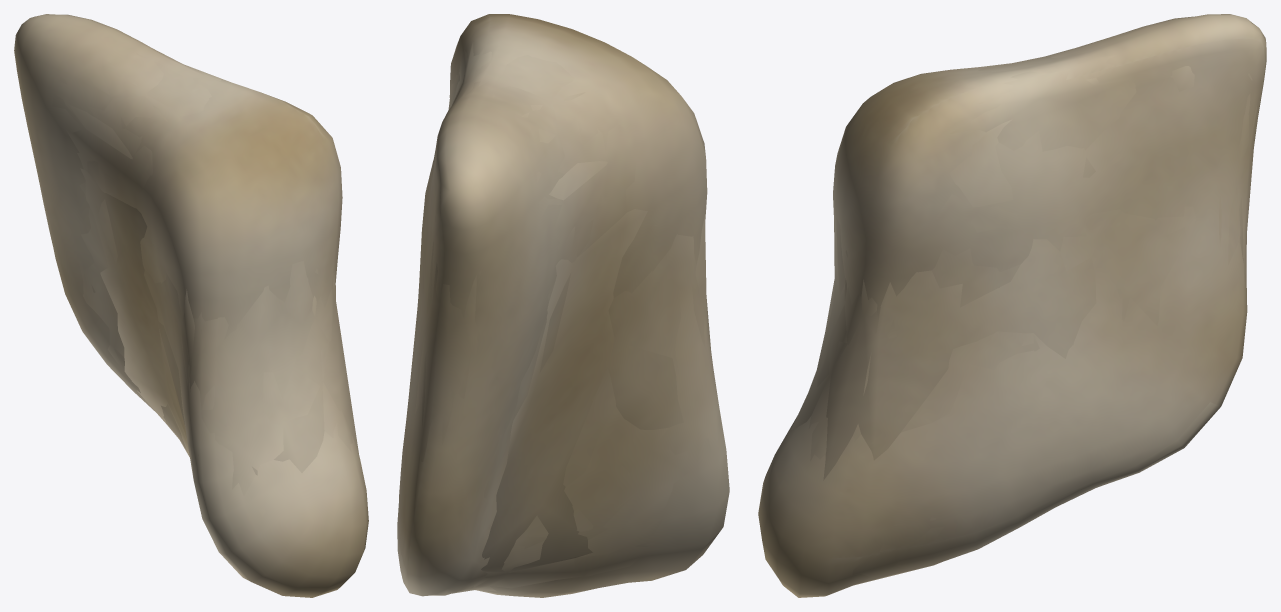
File: L tarsi tertium.fbx
3 renders of one model, left to right at view 1: azimuth 30°, elevation 25°; view 2: azimuth 150°, elevation 25°; view 3: azimuth 270°, elevation 25°, orthographic. The views are drawn at different scales.
Visible parts, largest first — view 1: L tarsi tertium high, L tarsi tertium, L tarsi tertium low; view 2: L tarsi tertium high, L tarsi tertium, L tarsi tertium low; view 3: L tarsi tertium high, L tarsi tertium, L tarsi tertium low.
Part boxes in pixels (<box>): L tarsi tertium high: <box>14,14,368,597</box>; L tarsi tertium: <box>52,47,352,516</box>; L tarsi tertium low: <box>68,103,358,475</box>; L tarsi tertium high: <box>397,14,729,597</box>; L tarsi tertium: <box>409,42,719,593</box>; L tarsi tertium low: <box>416,73,706,573</box>; L tarsi tertium high: <box>758,14,1266,597</box>; L tarsi tertium: <box>808,44,1258,581</box>; L tarsi tertium low: <box>791,78,1250,480</box>.
Size of the model in its own units: 1.61 by 4.04 by 3.52.
